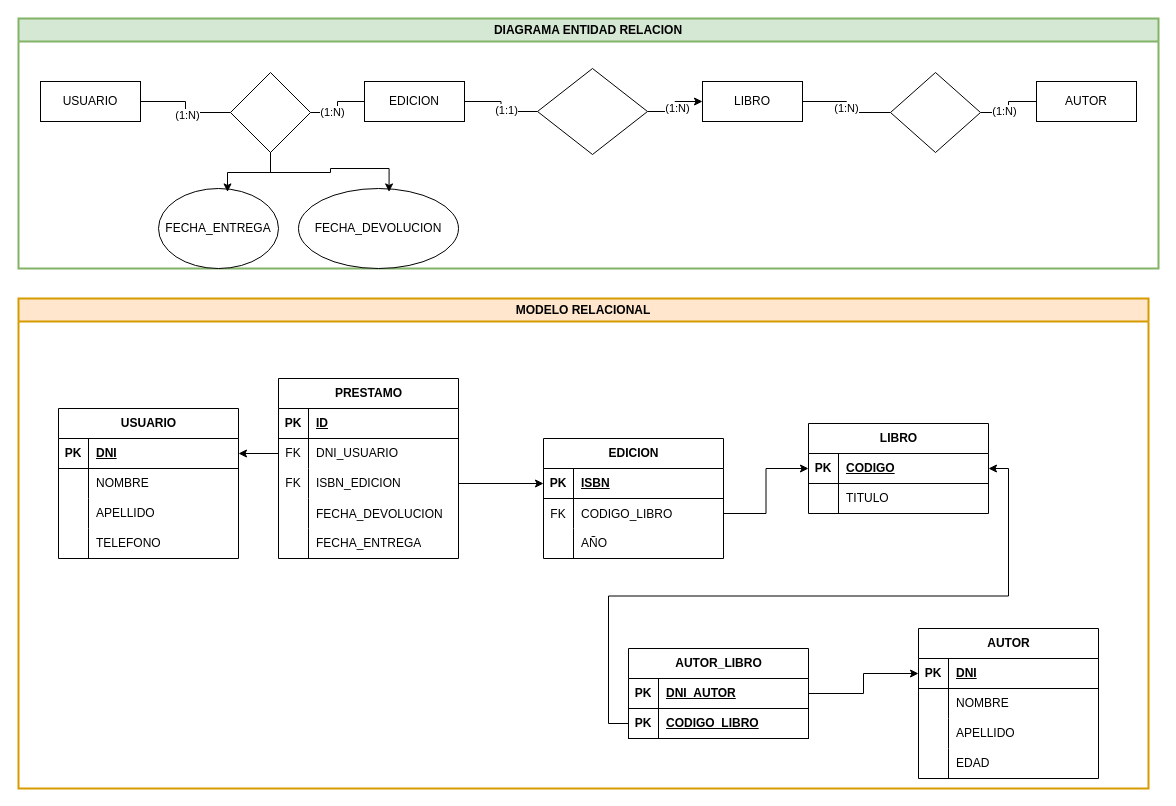
Image size: 1176x806. Some labels were removed from this diagram. Each missing label, with the centre of its shape:
ESCRIBE (N:M): (935,112)
PIDE (N:M): (270,112)
TIENE (1:N): (592,111)
